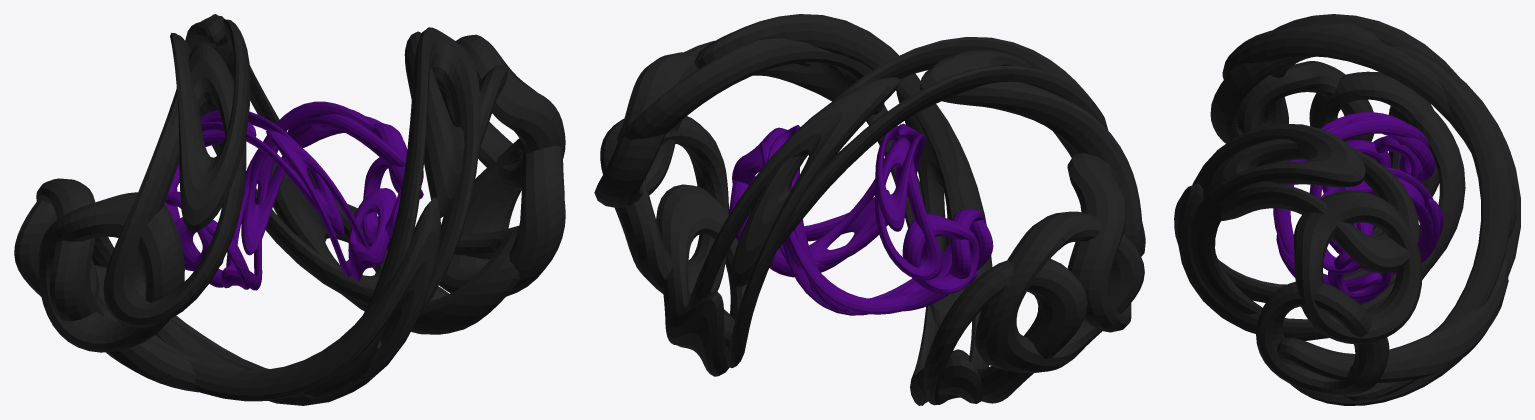
File: EnergyCoil.fbx
3 renders of one model, left to right at view 1: azimuth 30°, elevation 25°; view 2: azimuth 150°, elevation 25°; view 3: azimuth 270°, elevation 25°, orthographic. The views are drawn at different scales.
Parts seen in each view (by area): view 1: Torus.011, Torus.001; view 2: Torus.011, Torus.001; view 3: Torus.011, Torus.001.
Part boxes in pixels (x1=…): Torus.011: x1=14, y1=14, x2=565, y2=405; Torus.001: x1=164, y1=101, x2=423, y2=290; Torus.011: x1=594, y1=14, x2=1145, y2=405; Torus.001: x1=728, y1=123, x2=993, y2=315; Torus.011: x1=1174, y1=14, x2=1520, y2=405; Torus.001: x1=1273, y1=112, x2=1443, y2=303.
Bounding box in the file's own units: 394 × 255 × 266.
